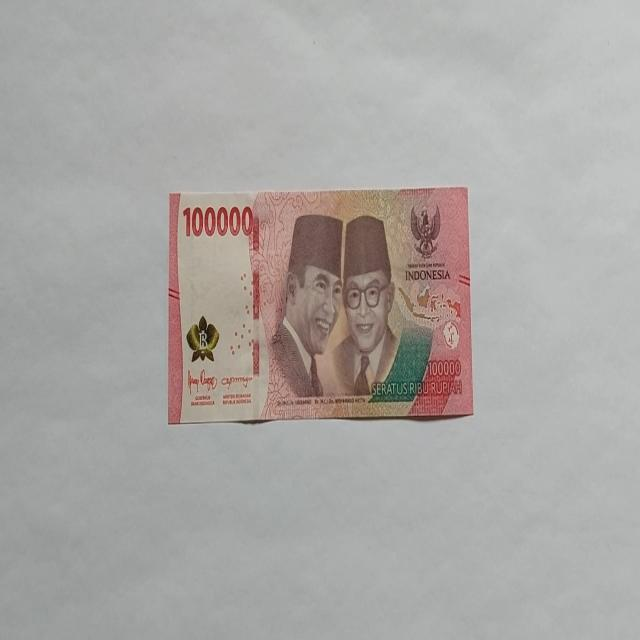seratus ribu rupiah: (167, 186, 473, 425)
